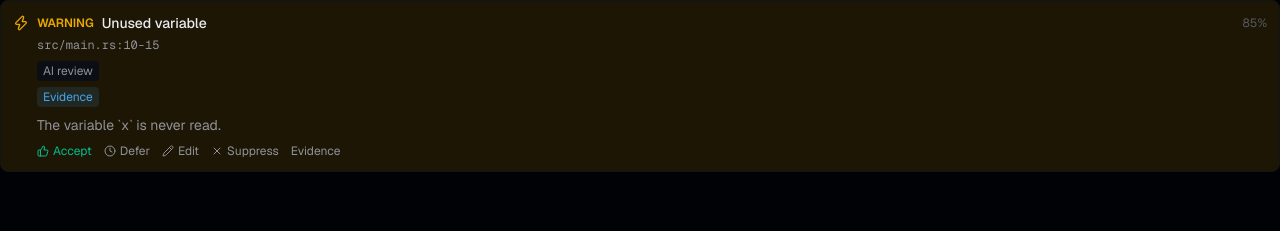
Scenario: FindingCard › renders evidence toggle and content when evidence is present
Expected: the text "Evidence" is shown, left=37, top=87, right=99, bottom=107
Expected: the text "Stack trace here" is not shown
Click the button "Evidence" at {"x": 316, "y": 151}, box left=291, top=143, right=341, bottom=159
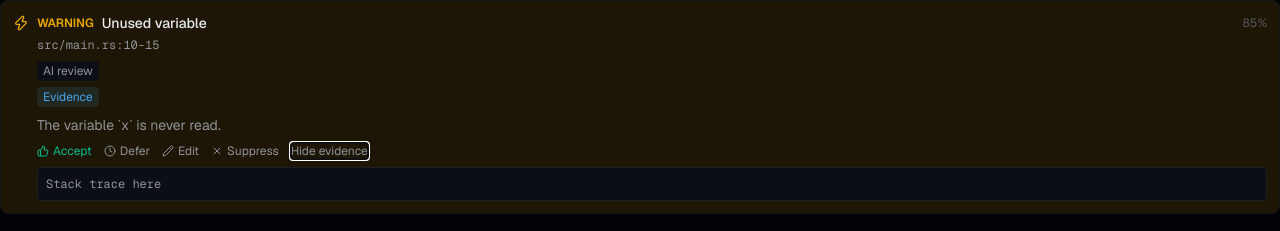
Now the text "Stack trace here" is shown, box left=46, top=176, right=161, bottom=192
